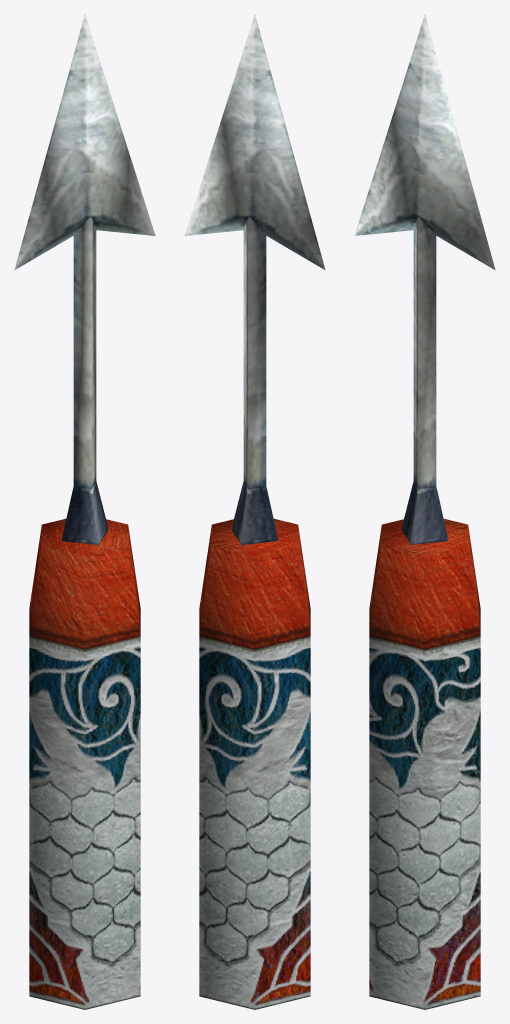
File: Pole7.obj
The picture shows the model from 3 angles, left to right: view 1: azimuth 30°, elevation 25°; view 2: azimuth 150°, elevation 25°; view 3: azimuth 330°, elevation 25°; orthographic projection.
Bounding box in the file's own units: 23.09 × 151 × 15.76.
Materials: 3 (3 with a texture image).
